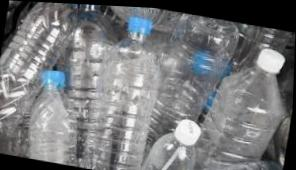plastic: (139, 9, 244, 170), (36, 2, 128, 170), (186, 36, 295, 170), (83, 12, 172, 170), (0, 0, 83, 149), (22, 66, 93, 168), (139, 112, 205, 170), (179, 145, 284, 170)
